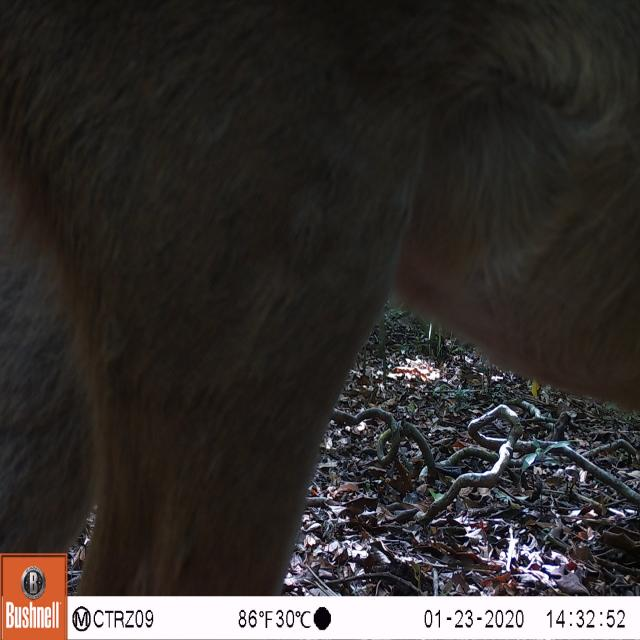White-tailed Deer: (1, 2, 640, 550)
